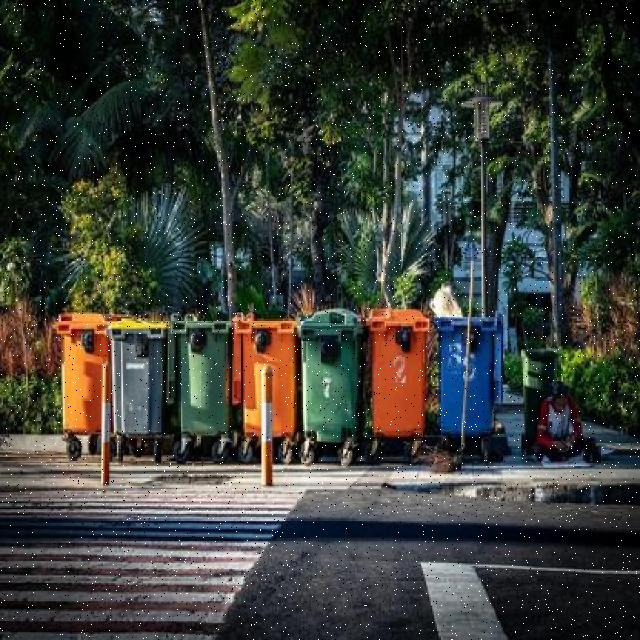garbage container: (432, 313, 512, 469), (297, 304, 361, 481), (365, 302, 432, 470), (48, 306, 110, 462), (108, 314, 172, 464), (175, 309, 234, 468)
